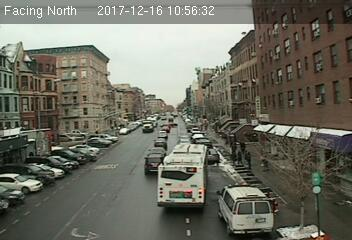bus: (156, 143, 207, 213)
car: (144, 151, 165, 173), (154, 138, 166, 147)
pedestrian: (237, 150, 242, 165)
police: (214, 180, 273, 233)
